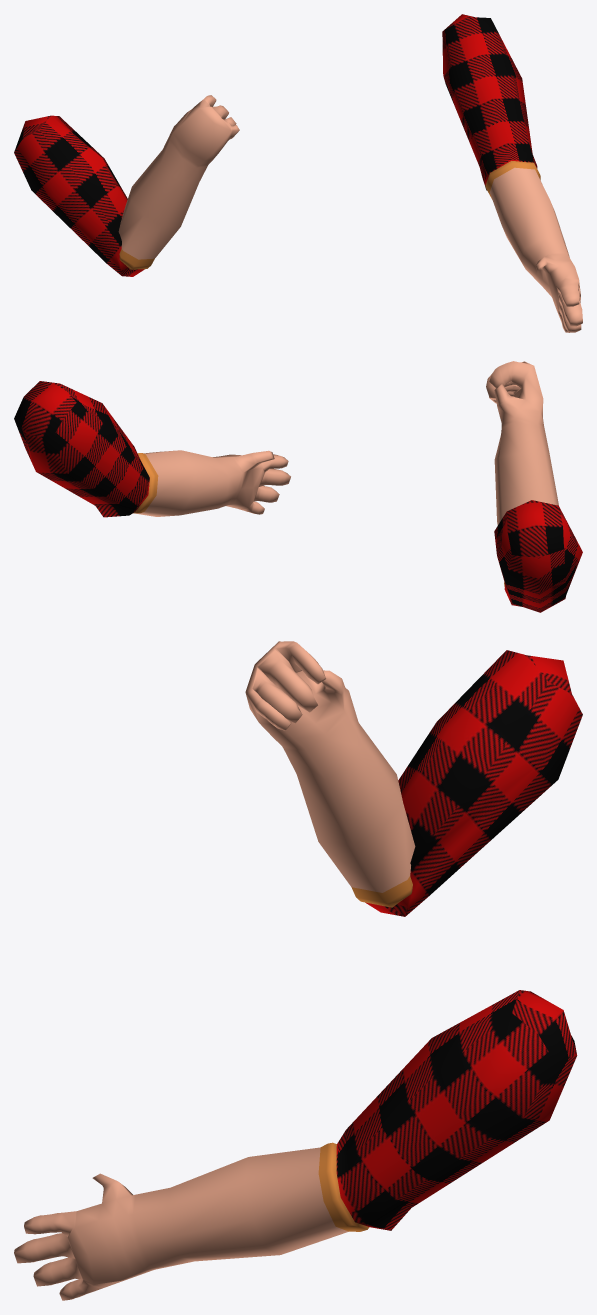
File: bracoTI4.fbx
3 views of the same model, one above another, from view 1: azimuth 30°, elevation 25°; view 2: azimuth 150°, elevation 25°; view 3: azimuth 270°, elevation 25° (orthographic). The views are drawn at different scales.
Visible parts, largest first — view 1: Arm Model; view 2: Arm Model; view 3: Arm Model.
Boxes of the visible parts, box(x1,y1,x2,y2) form: Arm Model: box(14, 14, 582, 332); Arm Model: box(14, 361, 582, 612); Arm Model: box(14, 641, 582, 1300).
Size of the model in its own units: 167 by 84.31 by 103.
